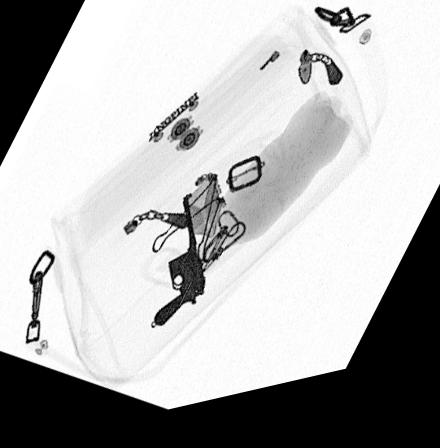Gun: (153, 200, 206, 334)
